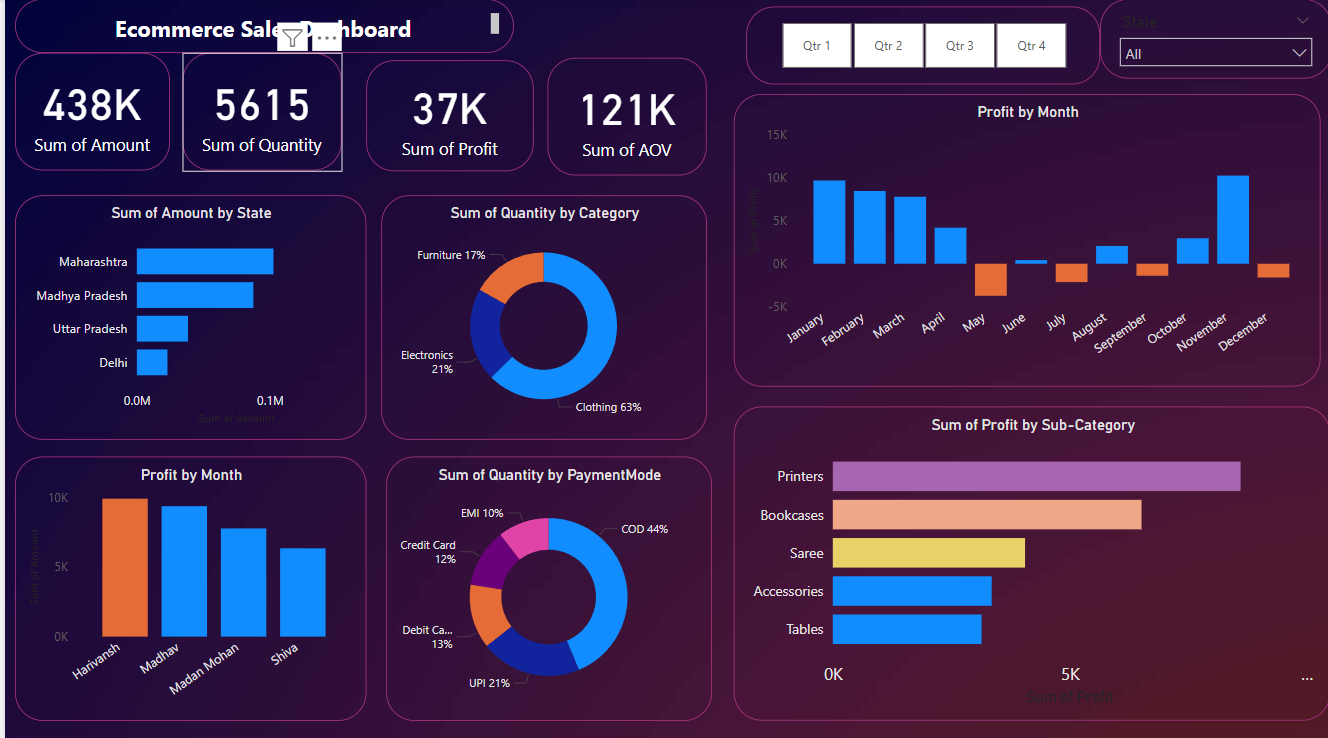

This screenshot's page, from the dashboard's own definition file:
{"tool":"powerbi","page":{"name":"Page 1","canvas":[1280,720],"ordinal":0},"visuals":[{"type":"textbox","box":[9.6,0,481.6,52.1],"z":0},{"type":"columnChart","title":"Profit by Month","fields":{"Y":["Sum(Details.Profit)"],"Category":["Orders.Order Date.Variation.Date Hierarchy.Month"]},"box":[703.9,91.9,566.7,282.7],"z":1000},{"type":"barChart","fields":{"Category":["Details.Sub-Category"],"Y":["Sum(Details.Profit)"]},"box":[703.9,393.8,576.3,303.3],"z":2000},{"type":"donutChart","fields":{"Y":["Sum(Details.Quantity)"],"Category":["Details.Category"]},"box":[363.6,189.4,314.2,236],"z":3000},{"type":"donutChart","fields":{"Y":["Sum(Details.Quantity)"],"Category":["Details.PaymentMode"]},"box":[367.8,441.9,314.2,255.2],"z":4000},{"type":"card","fields":{"Values":["Sum(Details.Amount)"]},"box":[9.6,52.1,149.6,113.9],"z":5000},{"type":"card","fields":{"Values":["Sum(Details.Quantity)"]},"box":[171.5,52.1,153.7,113.9],"z":6000},{"type":"card","fields":{"Values":["Sum(Details.Profit)"]},"box":[348.5,59,161.9,107],"z":7000},{"type":"card","fields":{"Values":["Sum(Details.AOV)"]},"box":[524.2,56.3,153.7,113.9],"z":8000},{"type":"barChart","fields":{"Category":["Orders.State"],"Y":["Sum(Details.Amount)"]},"box":[9.6,189.4,338.9,236],"z":9000},{"type":"columnChart","title":"Profit by Month","fields":{"Category":["Orders.CustomerName"],"Y":["Sum(Details.Amount)"]},"box":[9.6,441.9,338.9,255.2],"z":10000},{"type":"slicer","fields":{"Values":["Orders.Order Date.Variation.Date Hierarchy.Quarter"]},"box":[714.9,6.9,341.7,75.5],"z":11000},{"type":"slicer","fields":{"Values":["Orders.State"]},"box":[1056.6,0,223.7,76.8],"z":12000}]}

Visuals, with their boxes in screenshot pixels (x1, y1, x2, y2), scaled from the page's 1280x720 canvas onto the 1328x738 screenshot:
textbox: [left=10, top=0, right=510, bottom=53]
"Profit by Month" columnChart: [left=730, top=94, right=1318, bottom=384]
barChart - Details.Sub-Category x Sum(Details.Profit): [left=730, top=404, right=1327, bottom=715]
donutChart - Sum(Details.Quantity) x Details.Category: [left=377, top=194, right=703, bottom=436]
donutChart - Sum(Details.Quantity) x Details.PaymentMode: [left=382, top=453, right=708, bottom=715]
card - Sum(Details.Amount): [left=10, top=53, right=165, bottom=170]
card - Sum(Details.Quantity): [left=178, top=53, right=337, bottom=170]
card - Sum(Details.Profit): [left=362, top=60, right=530, bottom=170]
card - Sum(Details.AOV): [left=544, top=58, right=703, bottom=174]
barChart - Orders.State x Sum(Details.Amount): [left=10, top=194, right=362, bottom=436]
"Profit by Month" columnChart: [left=10, top=453, right=362, bottom=715]
slicer - Orders.Order Date.Variation.Date Hierarchy.Quarter: [left=742, top=7, right=1096, bottom=84]
slicer - Orders.State: [left=1096, top=0, right=1327, bottom=79]
